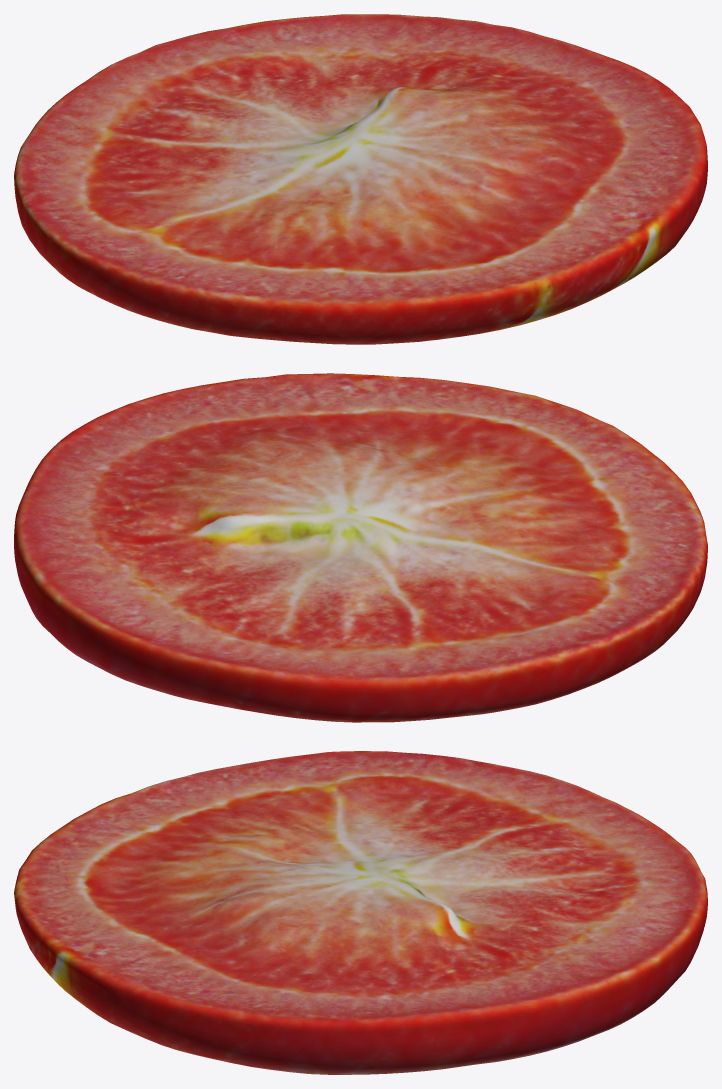
File: stomato.fbx
The picture shows the model from 3 angles, top to bottom: view 1: azimuth 30°, elevation 25°; view 2: azimuth 150°, elevation 25°; view 3: azimuth 270°, elevation 25°; orthographic projection. The views are drawn at different scales.
Parts seen in each view (by area): view 1: mesh; view 2: mesh; view 3: mesh.
Part boxes in pixels (<box>): mesh: <box>14,14,707,344</box>; mesh: <box>14,373,707,722</box>; mesh: <box>14,751,707,1074</box>.
Size of the model in its own units: 99.85 by 12.74 by 99.93.
